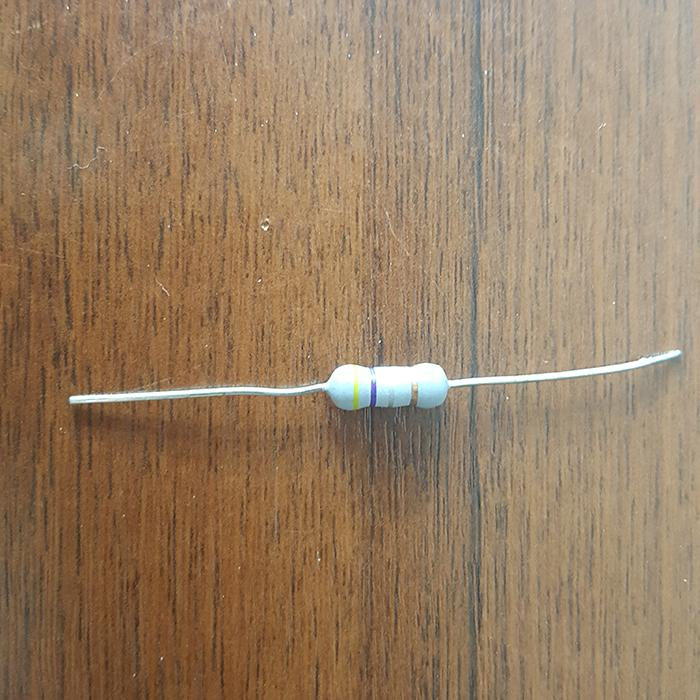resistor: (324, 360, 452, 411)
